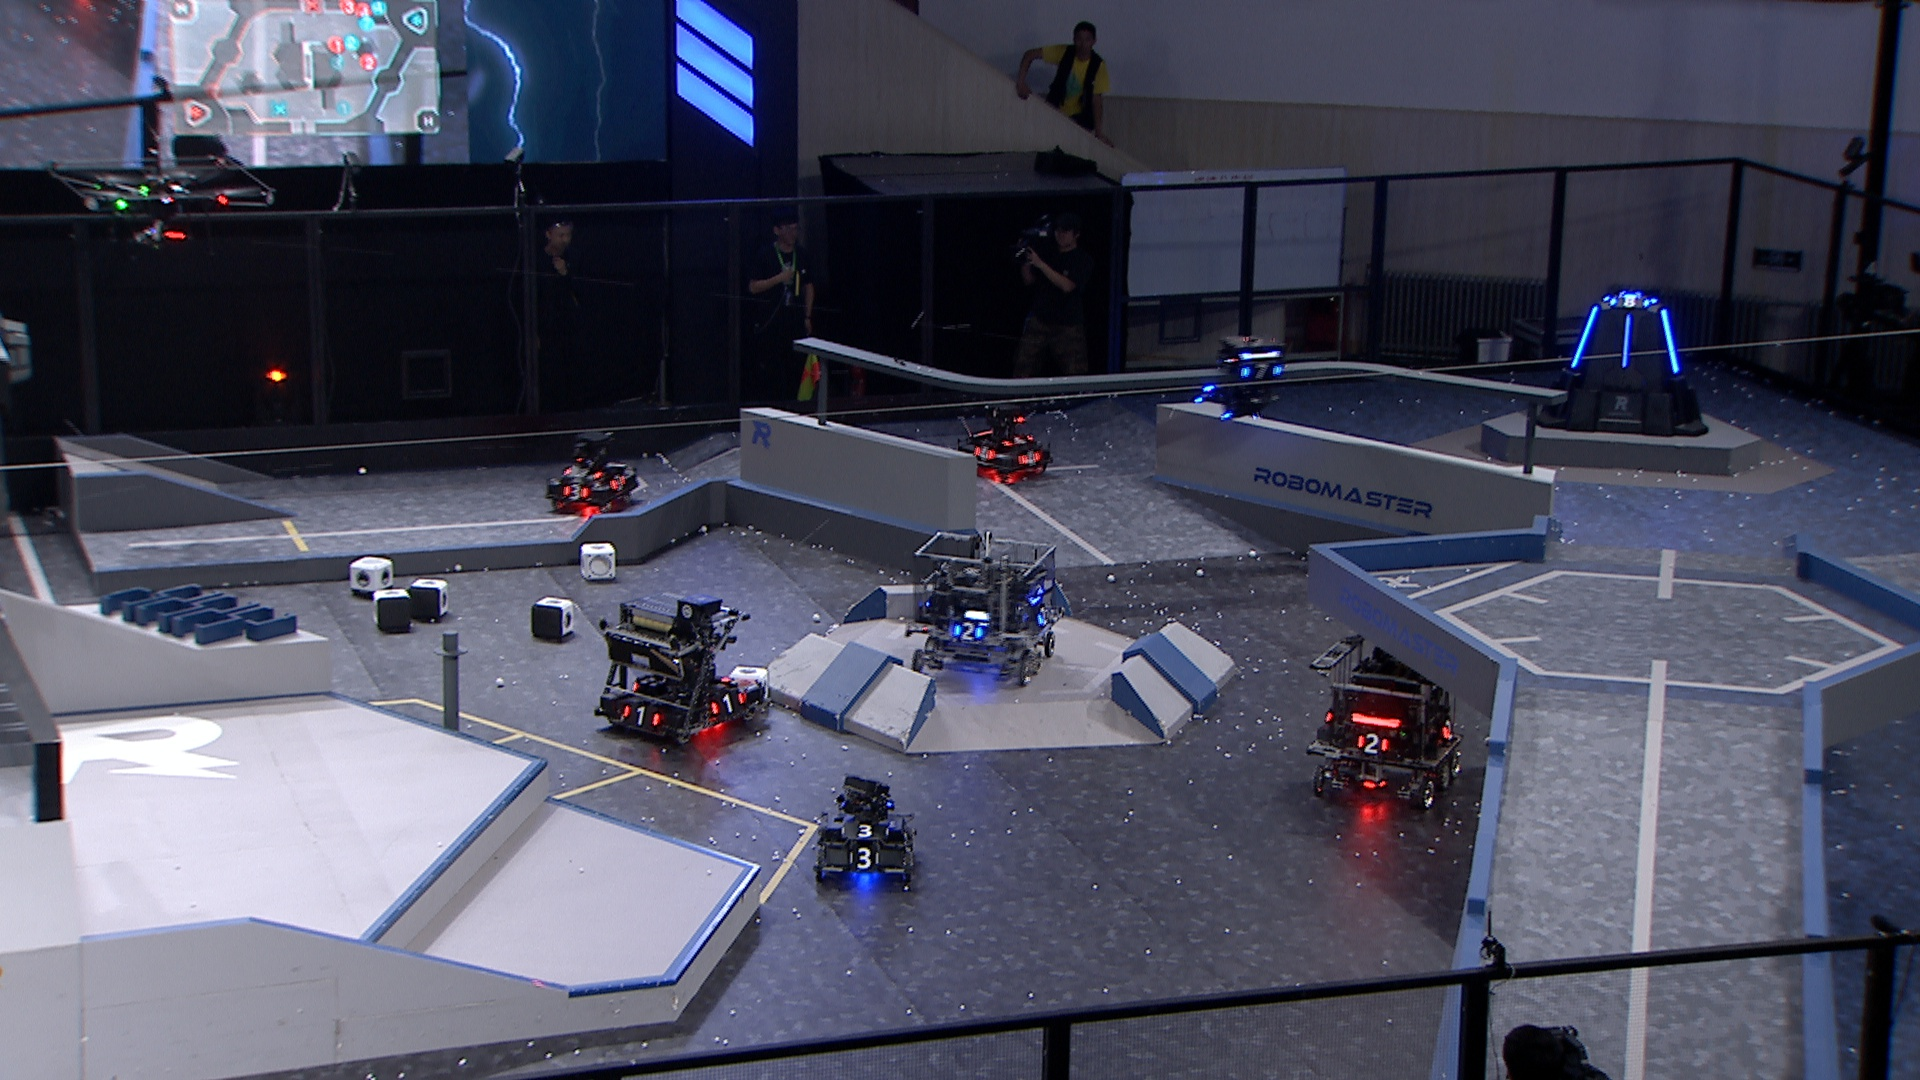armor: (1567, 302, 1604, 371), (1658, 305, 1685, 376), (618, 704, 666, 731), (705, 688, 746, 716), (845, 843, 882, 872), (837, 822, 891, 841), (1240, 363, 1286, 385), (1621, 311, 1636, 371), (949, 618, 986, 644), (558, 465, 604, 484), (1357, 731, 1390, 756), (1605, 294, 1650, 310), (997, 433, 1036, 450), (1013, 446, 1044, 467), (560, 481, 589, 501), (971, 442, 997, 463), (607, 469, 629, 491), (1441, 716, 1458, 742), (1035, 603, 1054, 626)
base: (1534, 286, 1712, 439)
car: (1302, 626, 1466, 803), (595, 585, 766, 749), (907, 527, 1069, 688), (808, 773, 915, 887), (545, 429, 642, 520), (956, 400, 1055, 484)
watcher: (1212, 328, 1290, 415)
